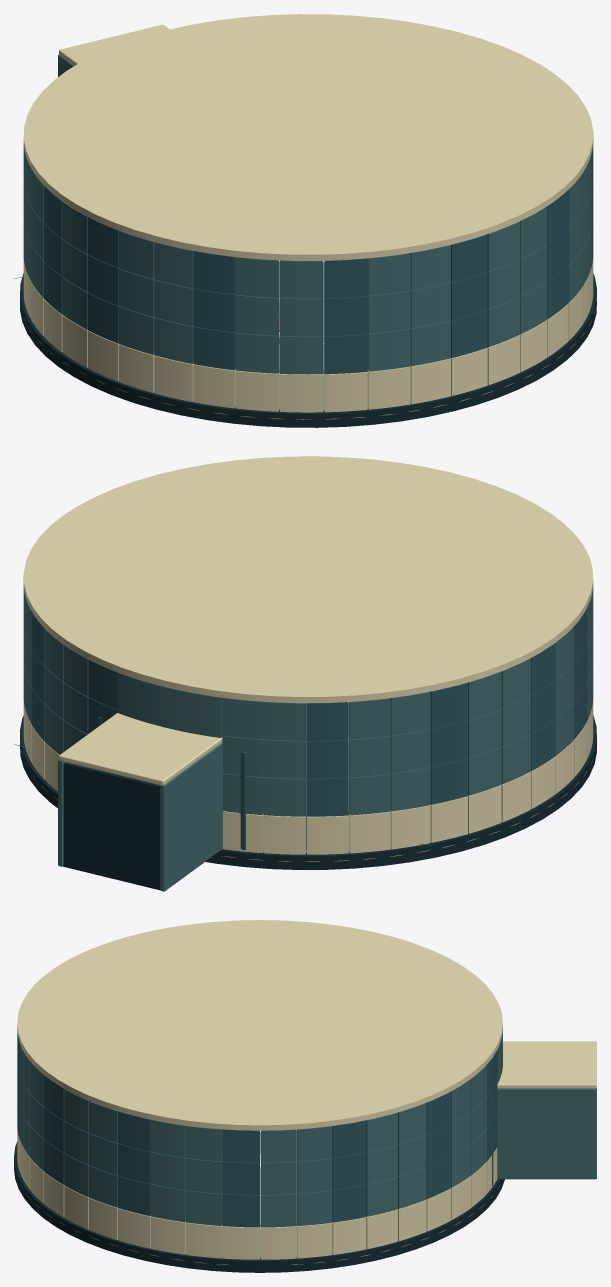
File: starling-suit-room.glb
3 views of the same model, one above another, from view 1: azimuth 30°, elevation 25°; view 2: azimuth 150°, elevation 25°; view 3: azimuth 270°, elevation 25° (orthographic). The views are drawn at different scales.
Visible parts, largest first — view 1: Ceiling / cream roof, Hull / teal curved panel (×50), Hull / cream lower panel (×17), Hull / low round foundation, Airlock / corridor ceiling; view 2: Ceiling / cream roof, Hull / teal curved panel (×37), Hull / cream lower panel (×10), Airlock / dark rear bulkhead, Airlock / corridor side (×2), Hull / low round foundation, Airlock / corridor ceiling, Airlock / continuous upper transom, Airlock / retracted inner door; view 3: Ceiling / cream roof, Hull / teal curved panel (×48), Hull / cream lower panel (×16), Airlock / corridor side, Hull / low round foundation, Airlock / corridor ceiling.
Boxes of the visible parts, x1,y1,x2,y2 form: Ceiling / cream roof: (23, 14, 593, 260); Hull / teal curved panel (×50): (30, 168, 583, 374); Hull / cream lower panel (×17): (30, 282, 583, 412); Hull / low round foundation: (20, 273, 596, 427); Airlock / corridor ceiling: (59, 24, 169, 65); Ceiling / cream roof: (23, 456, 593, 703); Hull / teal curved panel (×37): (44, 626, 574, 816); Hull / cream lower panel (×10): (223, 740, 574, 854); Airlock / dark rear bulkhead: (63, 762, 159, 890); Airlock / corridor side (×2): (58, 743, 223, 891); Hull / low round foundation: (20, 715, 596, 869); Airlock / corridor ceiling: (59, 713, 222, 785); Airlock / continuous upper transom: (117, 672, 222, 737); Airlock / retracted inner door: (238, 752, 245, 850); Ceiling / cream roof: (17, 920, 502, 1130); Hull / teal curved panel (×48): (29, 1060, 487, 1227); Hull / cream lower panel (×16): (29, 1157, 487, 1259); Airlock / corridor side: (497, 1088, 596, 1179); Hull / low round foundation: (14, 1141, 504, 1272); Airlock / corridor ceiling: (497, 1041, 596, 1088).
Size of the model in its own units: 15.2 by 4.98 by 18.
